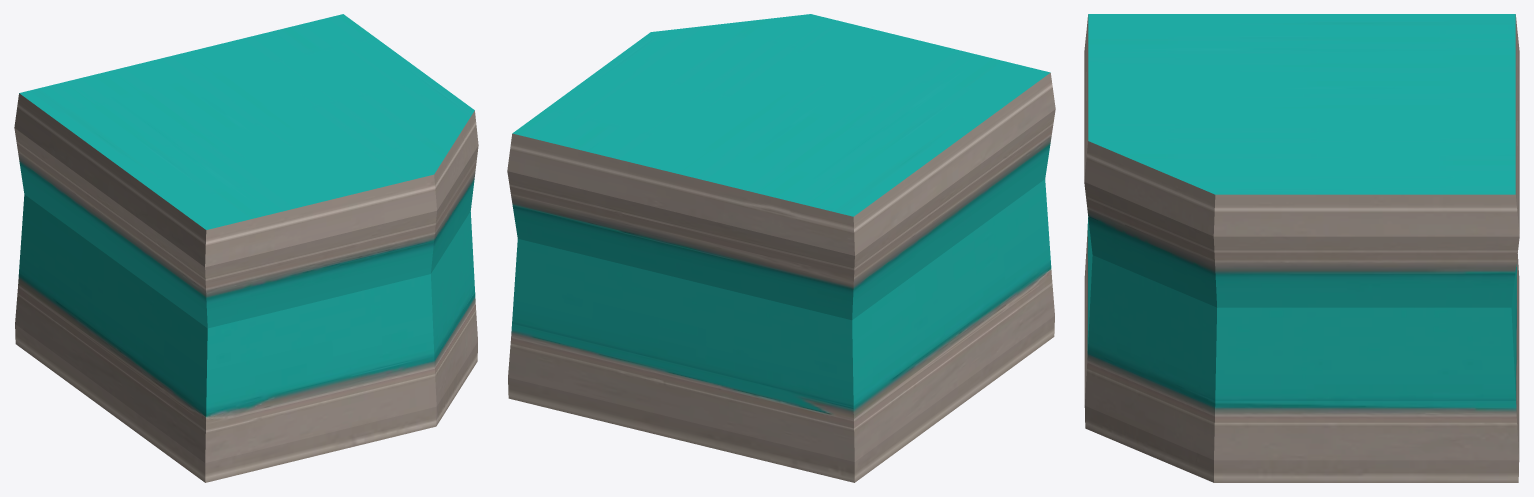
Rendered from corner_rect90_teal.glb.
3 renders of one model, left to right at view 1: azimuth 30°, elevation 25°; view 2: azimuth 150°, elevation 25°; view 3: azimuth 270°, elevation 25°, orthographic. The views are drawn at different scales.
Visible parts, largest first — view 1: corner_rect90_teal; view 2: corner_rect90_teal; view 3: corner_rect90_teal.
Part boxes in pixels (left/top/right/bottom): corner_rect90_teal: left=14, top=14, right=478, bottom=482; corner_rect90_teal: left=507, top=14, right=1055, bottom=482; corner_rect90_teal: left=1084, top=14, right=1519, bottom=482.
Size of the model in its own units: 0.74 by 0.5382 by 0.74.
1 material, 1 textured.
